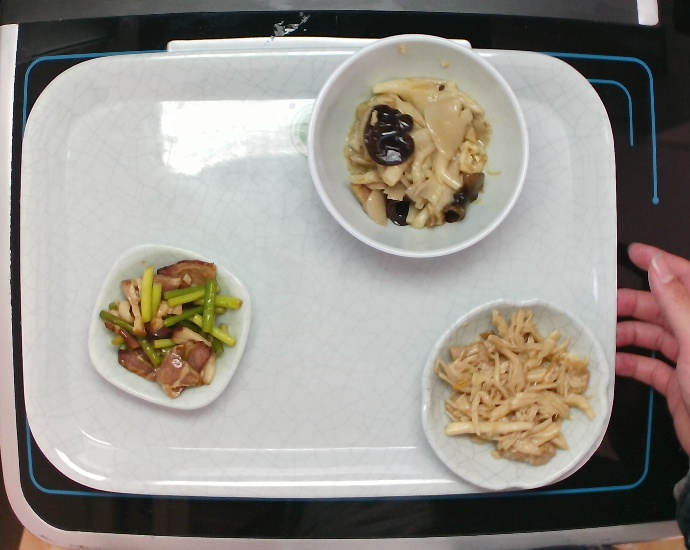JYsf-Ao_Yuan_Wan: (420, 291, 616, 500)
JYsf-Fan_Wan: (308, 32, 537, 271)
JYsf-Si_Fang_Die: (84, 234, 260, 426)
